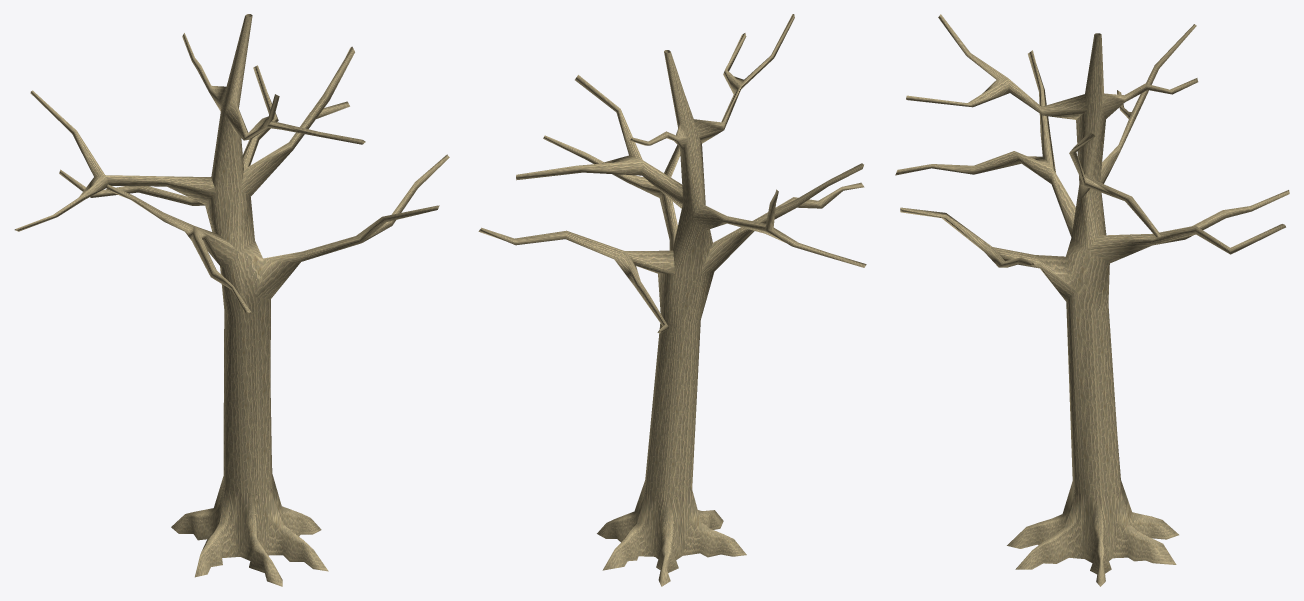
Rendered from INST_HTOWN_APPLETREE_LOD2.fbx.
The picture shows the model from 3 angles, left to right: view 1: azimuth 30°, elevation 25°; view 2: azimuth 150°, elevation 25°; view 3: azimuth 270°, elevation 25°; orthographic projection. The views are drawn at different scales.
Parts seen in each view (by area): view 1: INST_HTOWN_APPLETREE_LOD2; view 2: INST_HTOWN_APPLETREE_LOD2; view 3: INST_HTOWN_APPLETREE_LOD2.
Part boxes in pixels (box(x1,y1,x2,y2)): INST_HTOWN_APPLETREE_LOD2: box(14, 14, 449, 586); INST_HTOWN_APPLETREE_LOD2: box(478, 14, 866, 586); INST_HTOWN_APPLETREE_LOD2: box(895, 14, 1289, 586).
Size of the model in its own units: 33631 by 44043 by 30408.
5 materials, 5 textured.
